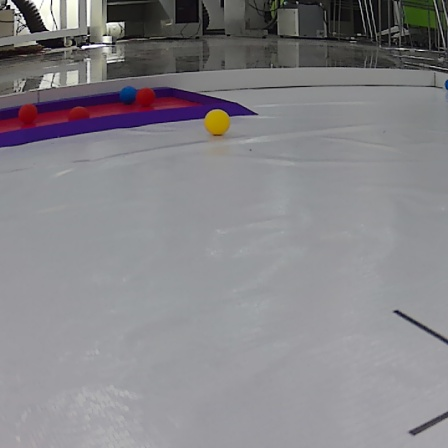blue: (118, 85, 140, 104)
red: (62, 104, 92, 126), (17, 101, 38, 122), (139, 87, 158, 106)
red_aim: (0, 80, 265, 141)
yellow: (204, 109, 230, 137)
